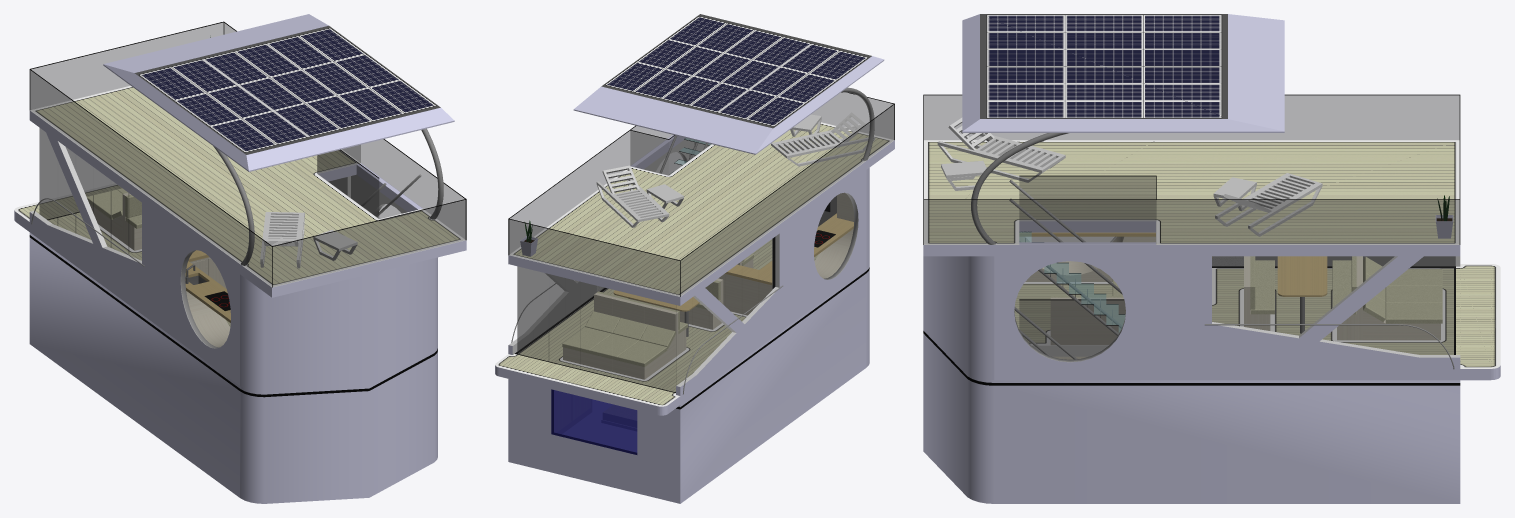
The model's file is floho.obj.
3 renders of one model, left to right at view 1: azimuth 30°, elevation 25°; view 2: azimuth 150°, elevation 25°; view 3: azimuth 270°, elevation 25°, orthographic. The views are drawn at different scales.
Parts seen in each view (by area): view 1: casco_Cube, BB_casco_Cube.034, AA_tetoChao_Cube.039, AA_vidrosGrade_Cube.006, TT_toldoUp_Cube.044, TT_toldoAbasSup_Cube.038, AA_teto_Cube.005, BB_vidrosRedondos_Cube.025, BB_paredesInt_Cube.028, BB_armarios_tampo.001_Plane.002, BB_chao_Cube.002, VV_vidro15_Cube.032 (+15 smaller); view 2: casco_Cube, AA_tetoChao_Cube.039, AA_vidrosGrade_Cube.006, TT_toldoUp_Cube.044, BB_casco_Cube.034, BB_chao_Cube.002, TT_toldoAbasSup_Cube.038, BB_armarios_tampo.001_Plane.002, BB_almofadas_mesa1_2______011.002, AA_teto_Cube.005, BB_paredesInt_Cube.028, vidroSub_Cube.012 (+27 smaller); view 3: casco_Cube, AA_tetoChao_Cube.039, AA_vidrosGrade_Cube.006, BB_casco_Cube.034, TT_toldoUp_Cube.044, BB_chao_Cube.002, TT_toldoAbasSup_Cube.038, BB_vidrosRedondos_Cube.025, AA_teto_Cube.005, BB_armarios_tampo.001_Plane.002, BB_almofadas_mesa1_2______011.002, VV_vidro12_Cube.023 (+19 smaller).
Boxes of the visible parts, x1,y1,x2,y2 form: casco_Cube: (29, 232, 437, 503); BB_casco_Cube.034: (14, 132, 437, 391); AA_tetoChao_Cube.039: (30, 85, 465, 287); AA_vidrosGrade_Cube.006: (30, 22, 465, 286); TT_toldoUp_Cube.044: (134, 25, 440, 154); TT_toldoAbasSup_Cube.038: (103, 14, 454, 171); AA_teto_Cube.005: (29, 110, 466, 297); BB_vidrosRedondos_Cube.025: (181, 204, 401, 348); BB_paredesInt_Cube.028: (30, 141, 407, 348); BB_armarios_tampo.001_Plane.002: (90, 193, 230, 347); BB_chao_Cube.002: (14, 183, 230, 326); VV_vidro15_Cube.032: (39, 128, 74, 219); casco_Cube: (508, 265, 869, 503); AA_tetoChao_Cube.039: (509, 122, 894, 296); AA_vidrosGrade_Cube.006: (509, 92, 894, 296); TT_toldoUp_Cube.044: (601, 14, 871, 128); BB_casco_Cube.034: (495, 168, 869, 415); BB_chao_Cube.002: (495, 239, 817, 406); TT_toldoAbasSup_Cube.038: (573, 56, 884, 154); BB_armarios_tampo.001_Plane.002: (563, 193, 854, 379); BB_almofadas_mesa1_2______011.002: (562, 254, 753, 366); AA_teto_Cube.005: (508, 135, 894, 305); BB_paredesInt_Cube.028: (509, 138, 858, 386); vidroSub_Cube.012: (551, 389, 637, 454); casco_Cube: (923, 328, 1460, 503); AA_tetoChao_Cube.039: (924, 140, 1459, 244); AA_vidrosGrade_Cube.006: (924, 95, 1459, 244); BB_casco_Cube.034: (923, 256, 1500, 380); TT_toldoUp_Cube.044: (980, 14, 1227, 118); BB_chao_Cube.002: (1014, 264, 1500, 368); TT_toldoAbasSup_Cube.038: (962, 14, 1284, 132); BB_vidrosRedondos_Cube.025: (1014, 237, 1125, 361); AA_teto_Cube.005: (923, 221, 1460, 256); BB_armarios_tampo.001_Plane.002: (1019, 236, 1440, 344); BB_almofadas_mesa1_2______011.002: (1050, 256, 1442, 323); VV_vidro12_Cube.023: (1414, 256, 1453, 354).
Bounding box in the file's own units: 4.24 × 6.84 × 9.3.
